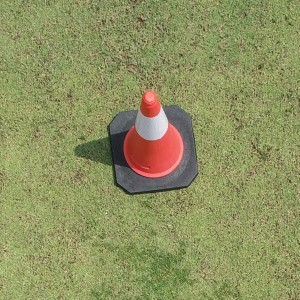traffic cone: (108, 91, 199, 195)
